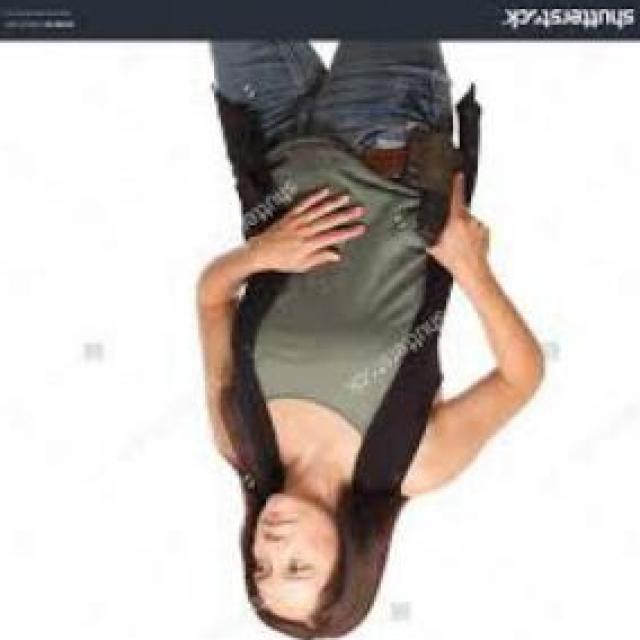pistol: (411, 128, 503, 262)
